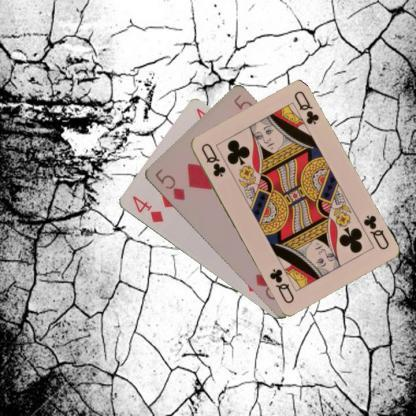4d: (129, 193, 165, 224)
5d: (152, 166, 186, 202)
Qc: (360, 212, 390, 250), (198, 140, 227, 178)
